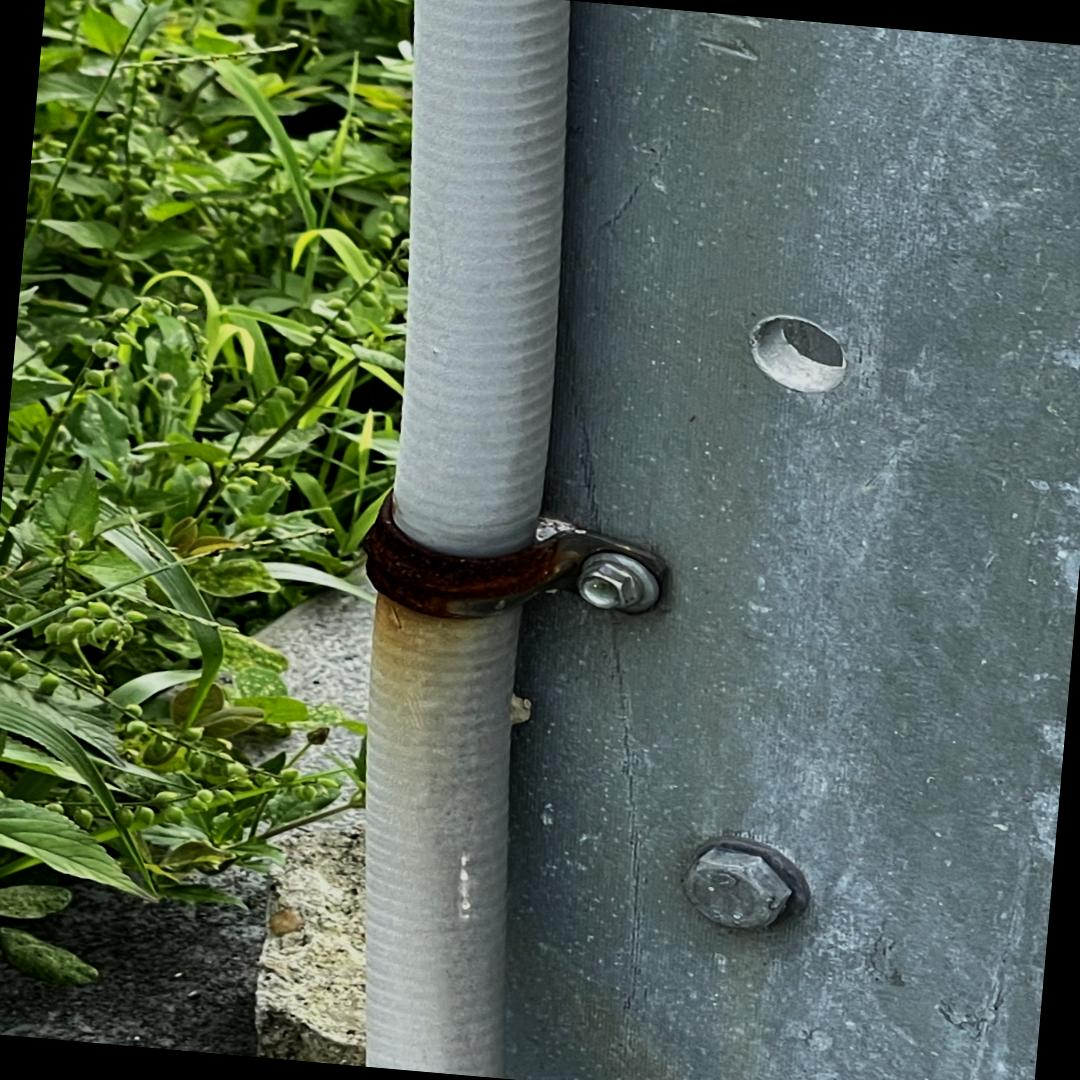Metal: (493, 0, 1080, 1080)
Metal corroido: (364, 492, 558, 619)
Tornillo sin corrosion: (682, 848, 792, 929), (575, 550, 661, 614)
